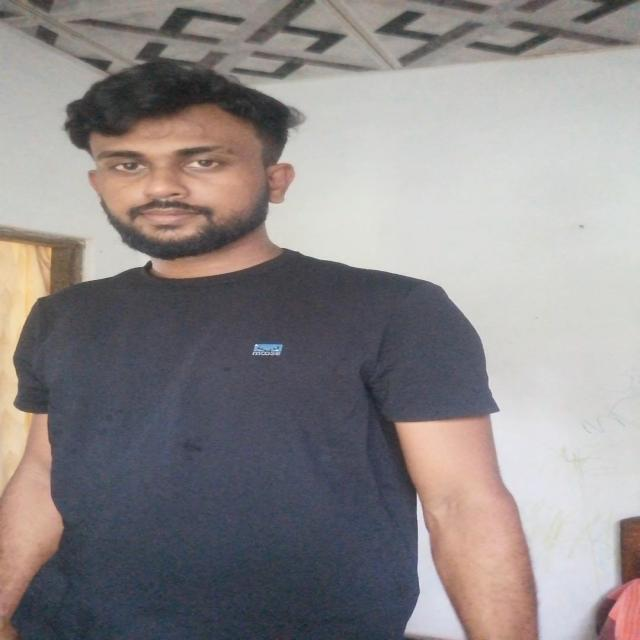Person: (18, 72, 530, 640)
